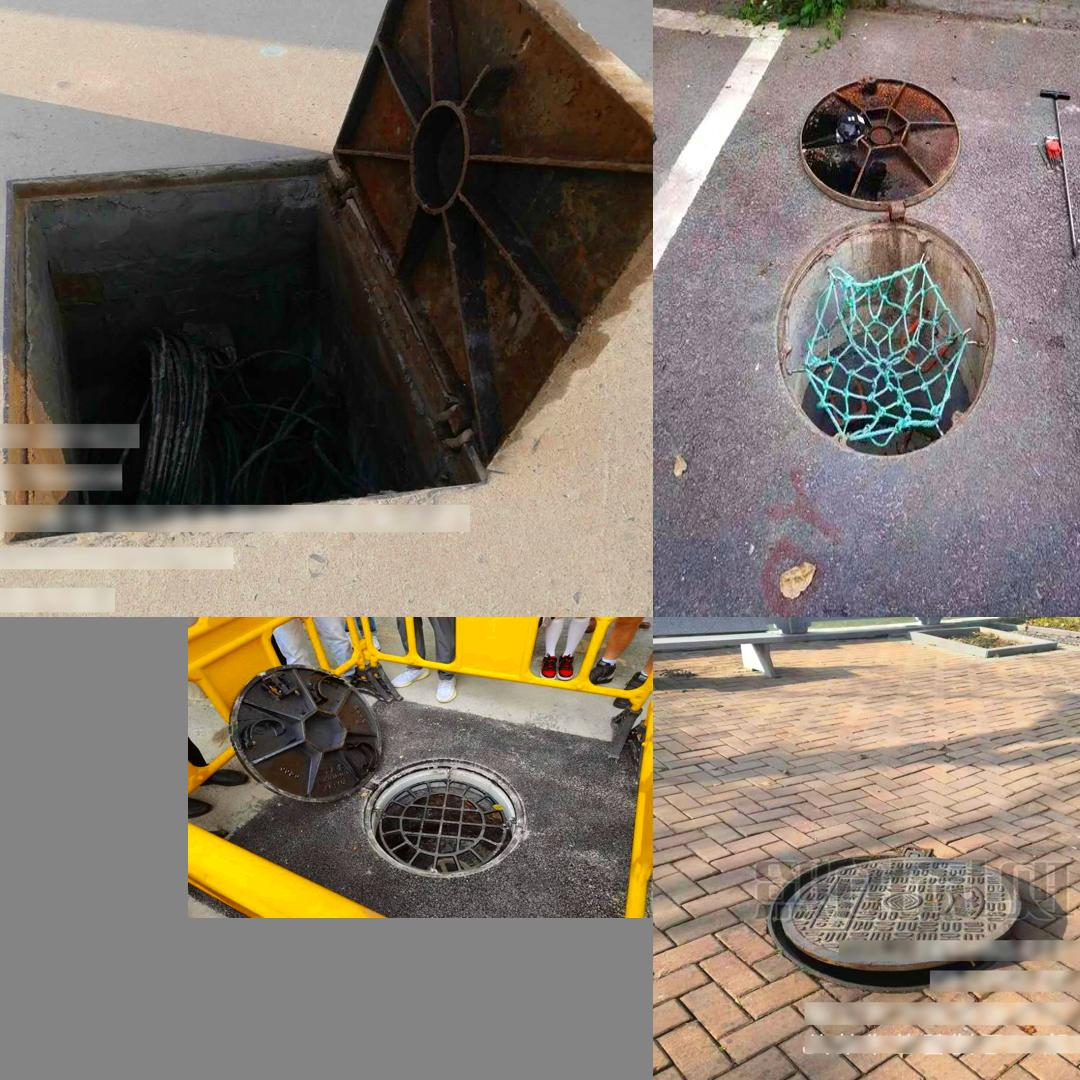uncovered: (9, 0, 653, 552), (751, 54, 1019, 467), (229, 659, 544, 892), (766, 848, 1020, 991)
